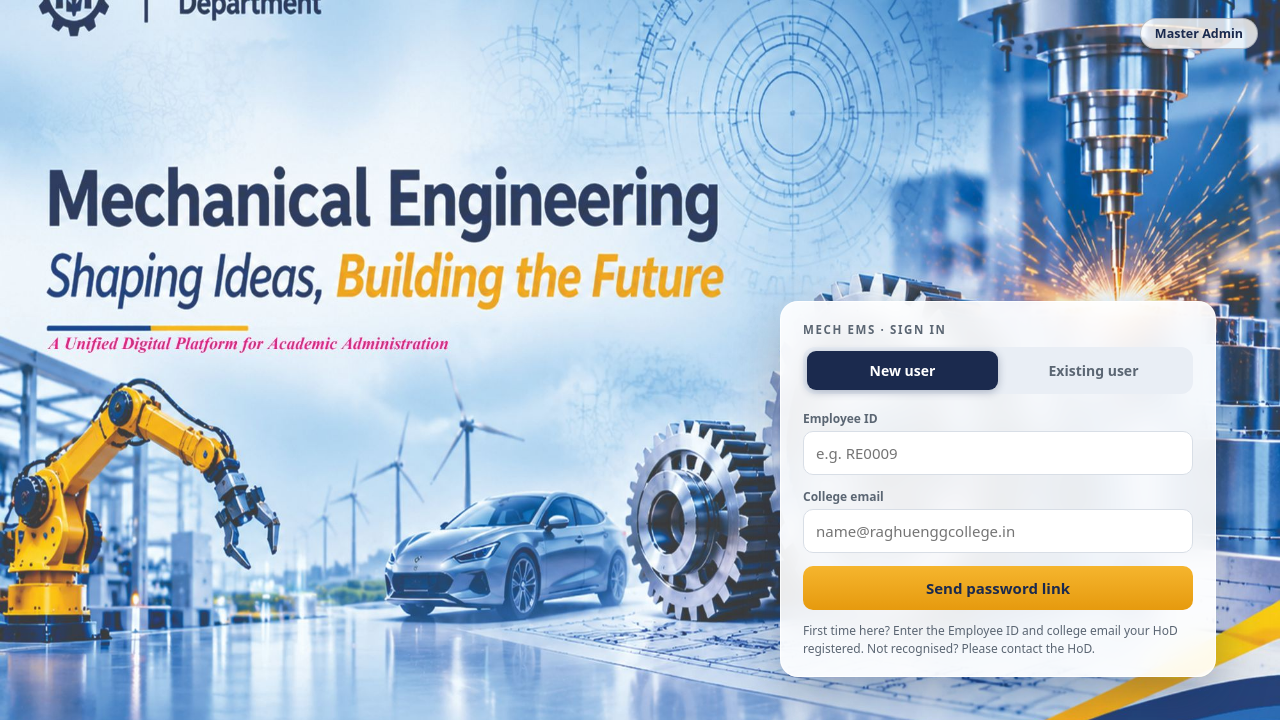
Test: a new user must give an Employee ID and a college email
Click the button "Send password link".
click(998, 588)  # box x1=803 y1=566 x2=1193 y2=610
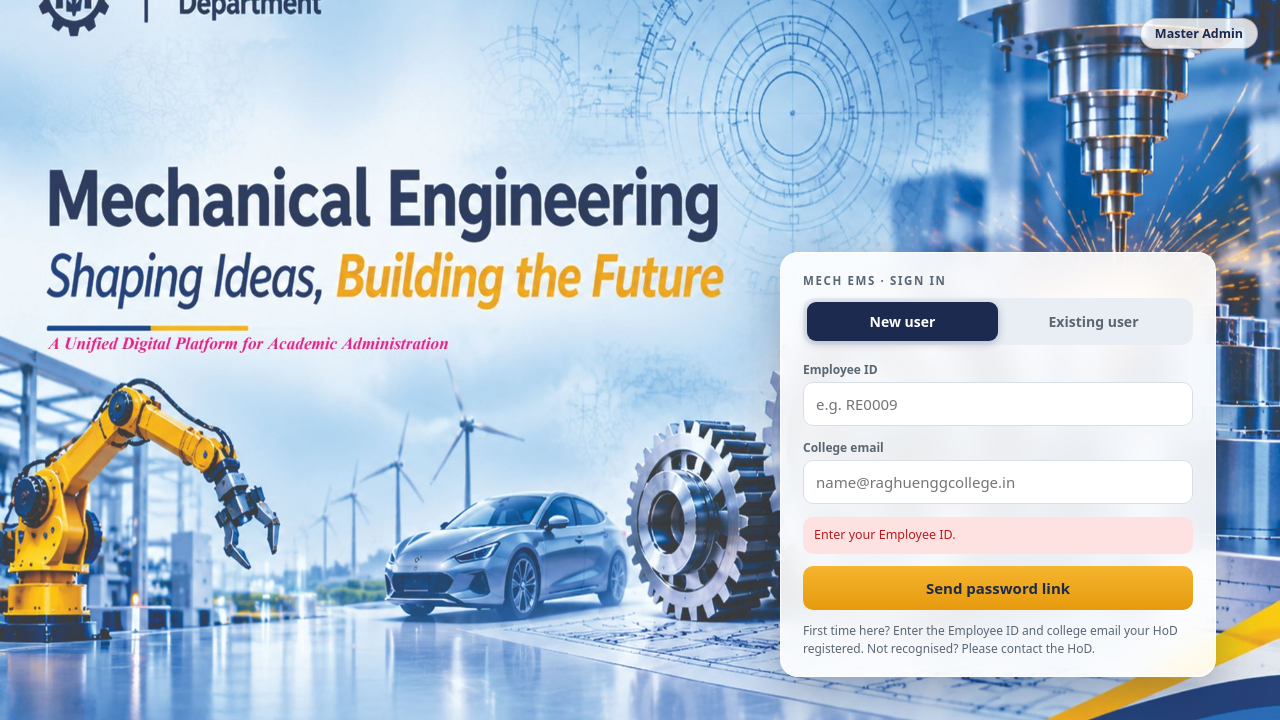
Expected: the text "Enter your Employee ID." is shown, x1=803 y1=517 x2=1193 y2=554
Type "RE0009" into the field labelled "Employee ID".
click(998, 404); type("RE0009")  # box x1=803 y1=382 x2=1193 y2=426
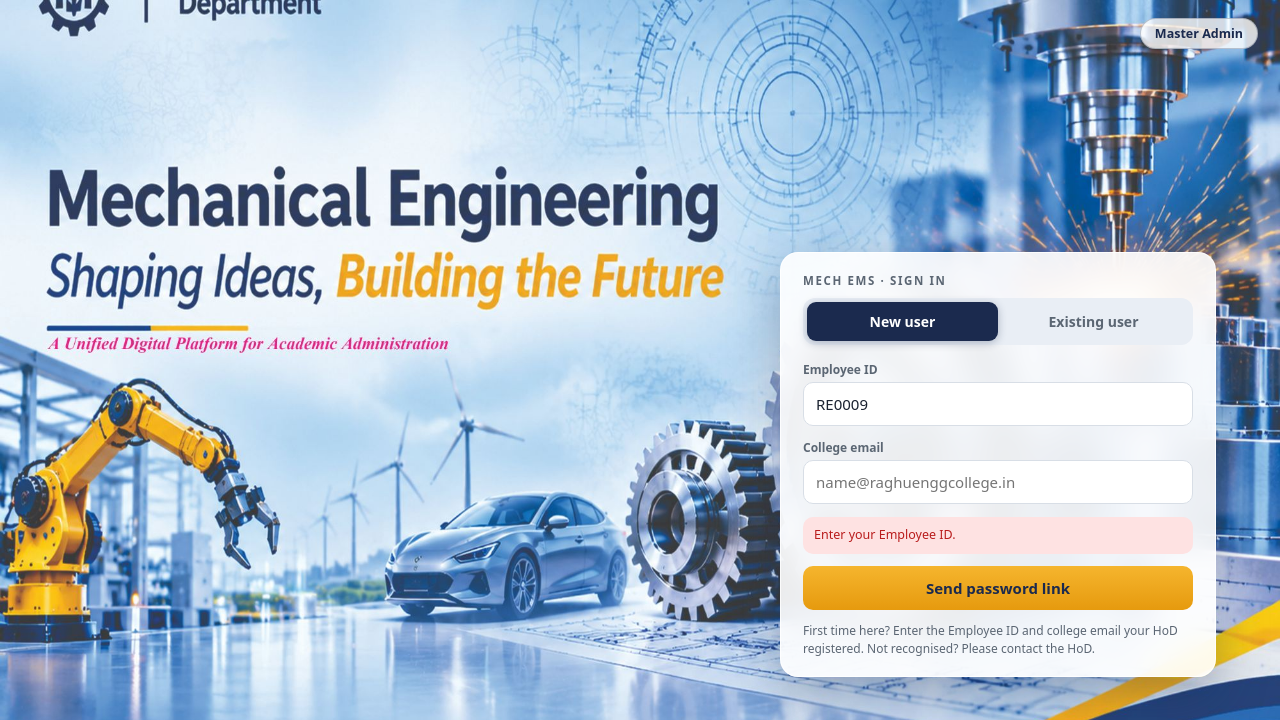
Type "me@gmail.com" into the field labelled "College email".
click(998, 482); type("me@gmail.com")  # box x1=803 y1=460 x2=1193 y2=504
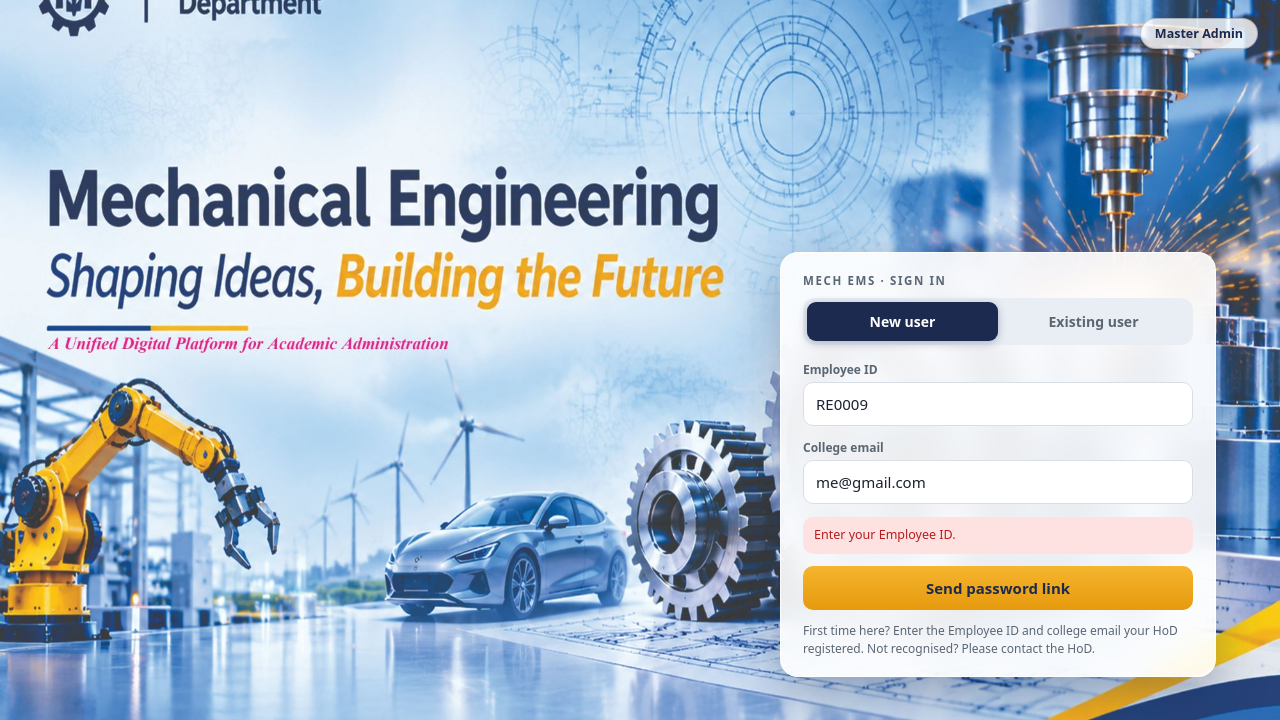
Click the button "Send password link".
click(998, 588)  # box x1=803 y1=566 x2=1193 y2=610
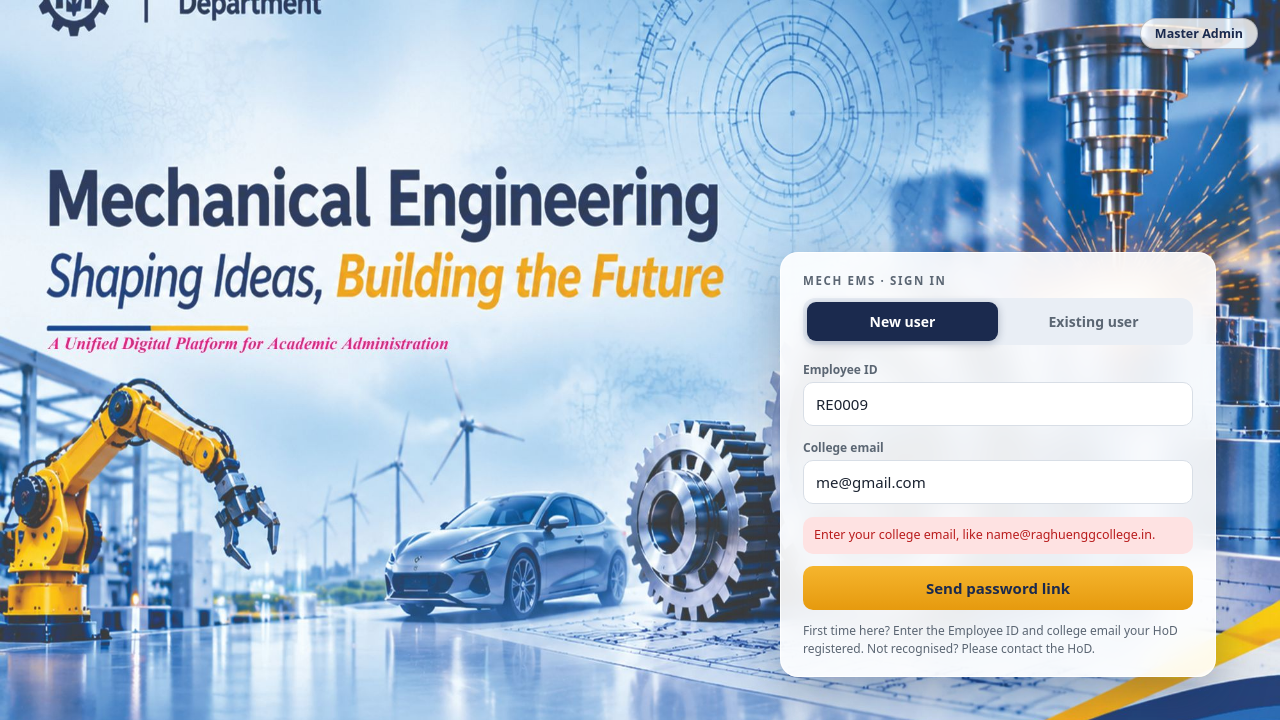
Expected: the text "Enter your college email, like name@raghuenggcollege.in." is shown, x1=803 y1=517 x2=1193 y2=554
